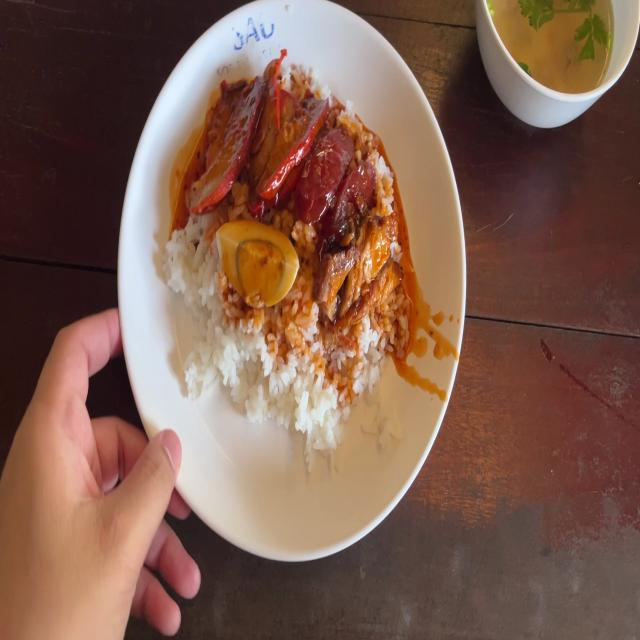red_pork_and_crispy_pork: (222, 233, 293, 305)
stir_fried_basil: (309, 121, 373, 235)
